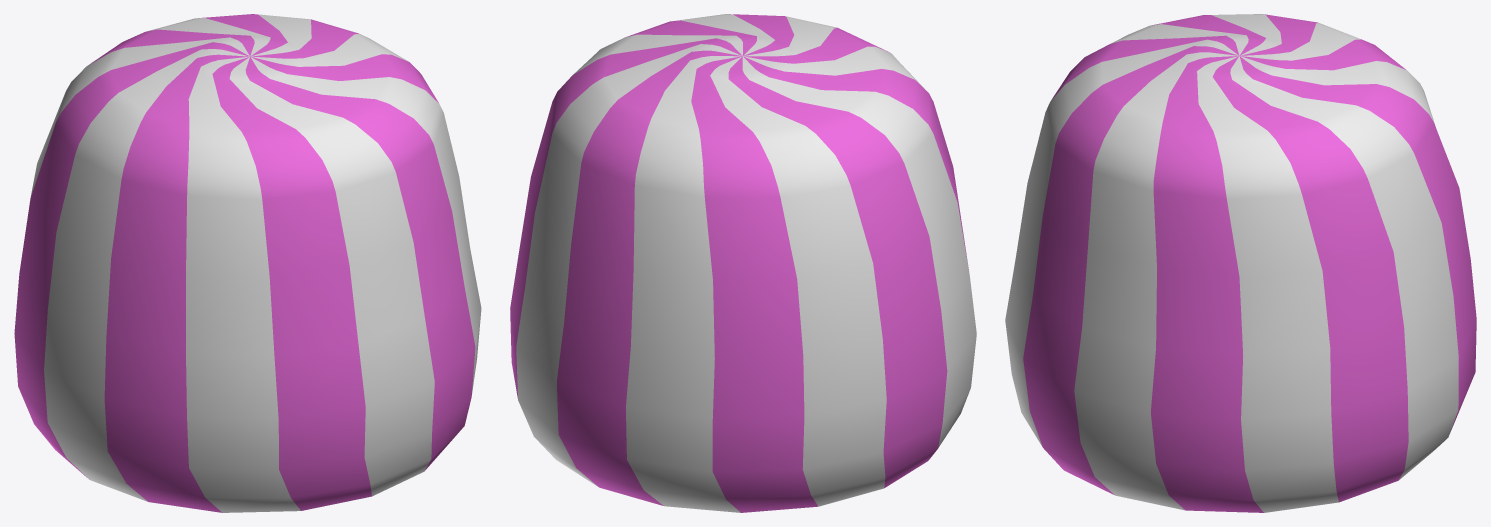
File: candy_mountain.fbx
The picture shows the model from 3 angles, left to right: view 1: azimuth 30°, elevation 25°; view 2: azimuth 150°, elevation 25°; view 3: azimuth 270°, elevation 25°; orthographic projection.
Parts seen in each view (by area): view 1: Circle; view 2: Circle; view 3: Circle.
Part boxes in pixels (<box>): Circle: <box>14,14,481,512</box>; Circle: <box>510,14,976,512</box>; Circle: <box>1005,14,1476,512</box>.
Size of the model in its own units: 184 by 170 by 184.
